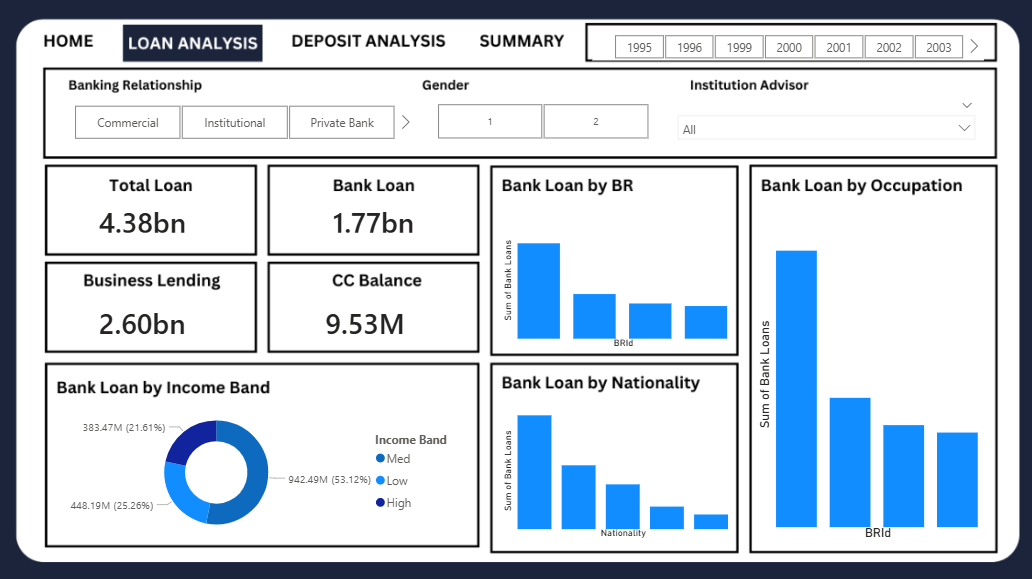

This screenshot's page, from the dashboard's own definition file:
{"tool":"powerbi","page":{"name":"Loan Analysis","canvas":[1280,720],"ordinal":2},"visuals":[{"type":"actionButton","box":[322.7,59.8,143.4,35.9],"z":0},{"type":"actionButton","box":[466.1,59.8,103.6,35.9],"z":1000},{"type":"actionButton","box":[97.6,59.8,75.7,35.9],"z":2000},{"type":"slicer","fields":{"Values":["banking_case customer.Year of Joining"]},"box":[726.9,60,447.4,36],"z":3000},{"type":"cardVisual","fields":{"Data":["banking_case customer.Total Loan"]},"box":[135.4,245,167.3,63.7],"z":4000},{"type":"cardVisual","fields":{"Data":["Sum(banking_case customer.Bank Loans)"]},"box":[402.3,245,167.3,63.7],"z":5000},{"type":"cardVisual","fields":{"Data":["Sum(banking_case customer.Business Lending)"]},"box":[135.4,360.5,167.3,65.7],"z":6000},{"type":"cardVisual","fields":{"Data":["Sum(banking_case customer.Credit Card Balance)"]},"box":[394.4,360.5,167.3,65.7],"z":7000},{"type":"donutChart","fields":{"Category":["banking_case customer.Income Band"],"Y":["Sum(banking_case customer.Bank Loans)"]},"box":[112.1,483.2,473.7,162.6],"z":8000},{"type":"clusteredColumnChart","fields":{"Category":["banking_case customer.BRId"],"Y":["Sum(banking_case customer.Bank Loans)"]},"box":[620.6,264,269.1,162.9],"z":9000},{"type":"clusteredColumnChart","fields":{"Category":["banking_case customer.Nationality"],"Y":["Sum(banking_case customer.Bank Loans)"]},"box":[620.6,481.7,269.1,162.9],"z":10000},{"type":"clusteredColumnChart","fields":{"Category":["banking_case customer.BRId"],"Y":["Sum(banking_case customer.Bank Loans)"]},"box":[912,264,264,382.3],"z":11000},{"type":"slicer","fields":{"Values":["banking_case customer.BRId"]},"box":[111.4,138.9,414.9,51.4],"z":12000},{"type":"slicer","fields":{"Values":["banking_case customer.GenderId"]},"box":[526.3,137.1,289.7,53.1],"z":13000},{"type":"slicer","fields":{"Values":["banking_case customer.IAId"]},"box":[816,137.1,360,51.4],"z":14000}]}

Visuals, with their boxes in screenshot pixels (x1, y1, x2, y2), scaled from the page's 1280x720 canvas onto the 1032x579 screenshot:
actionButton: [x1=260, y1=48, x2=376, y2=77]
actionButton: [x1=376, y1=48, x2=459, y2=77]
actionButton: [x1=79, y1=48, x2=140, y2=77]
slicer - banking_case customer.Year of Joining: [x1=586, y1=48, x2=947, y2=77]
cardVisual - banking_case customer.Total Loan: [x1=109, y1=197, x2=244, y2=248]
cardVisual - Sum(banking_case customer.Bank Loans): [x1=324, y1=197, x2=459, y2=248]
cardVisual - Sum(banking_case customer.Business Lending): [x1=109, y1=290, x2=244, y2=343]
cardVisual - Sum(banking_case customer.Credit Card Balance): [x1=318, y1=290, x2=453, y2=343]
donutChart - banking_case customer.Income Band x Sum(banking_case customer.Bank Loans): [x1=90, y1=389, x2=472, y2=519]
clusteredColumnChart - banking_case customer.BRId x Sum(banking_case customer.Bank Loans): [x1=500, y1=212, x2=717, y2=343]
clusteredColumnChart - banking_case customer.Nationality x Sum(banking_case customer.Bank Loans): [x1=500, y1=387, x2=717, y2=518]
clusteredColumnChart - banking_case customer.BRId x Sum(banking_case customer.Bank Loans): [x1=735, y1=212, x2=948, y2=520]
slicer - banking_case customer.BRId: [x1=90, y1=112, x2=424, y2=153]
slicer - banking_case customer.GenderId: [x1=424, y1=110, x2=658, y2=153]
slicer - banking_case customer.IAId: [x1=658, y1=110, x2=948, y2=152]
